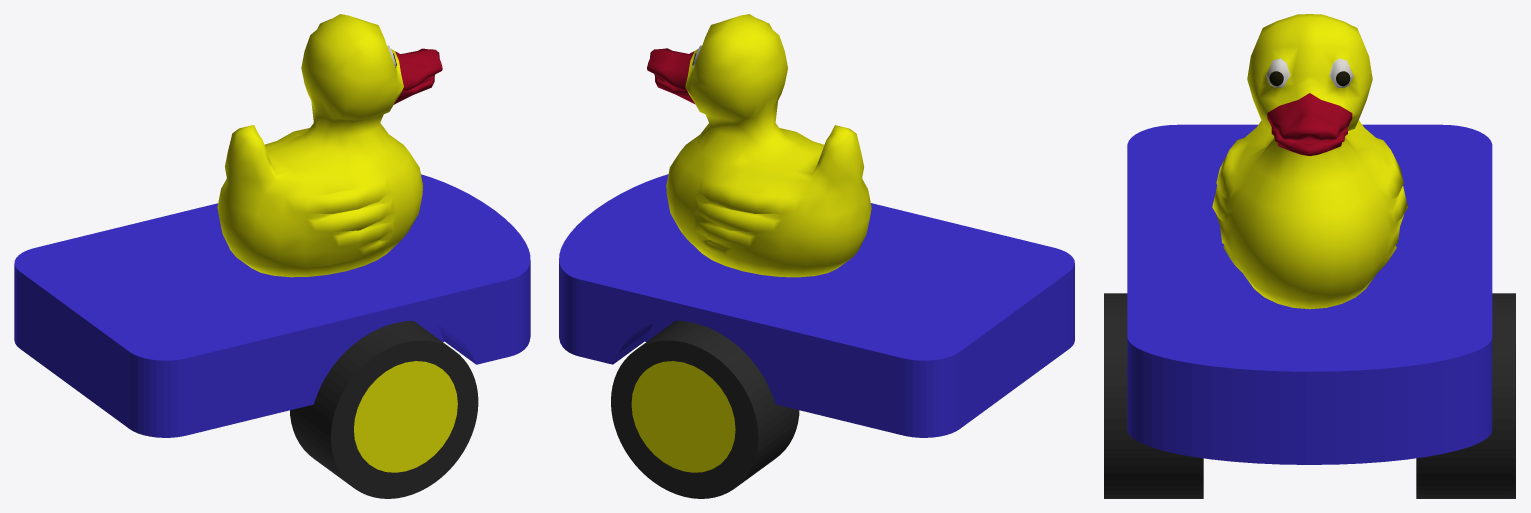
The model's file is duckiebot.dae.
3 views of the same model, side by side, from view 1: azimuth 30°, elevation 25°; view 2: azimuth 150°, elevation 25°; view 3: azimuth 270°, elevation 25° (orthographic). The views are drawn at different scales.
Visible parts, largest first — view 1: duckie_-_Base-1, Duck, duckie_-_RuedaD-1, Circle; view 2: duckie_-_Base-1, Duck, duckie_-_RuedaI-1, Circle; view 3: duckie_-_Base-1, Duck, duckie_-_RuedaI-1, duckie_-_RuedaD-1.
Boxes of the visible parts, left/top/right/bottom form: duckie_-_Base-1: left=14, top=174, right=530, bottom=437; Duck: left=217, top=14, right=442, bottom=277; duckie_-_RuedaD-1: left=290, top=321, right=478, bottom=498; Circle: left=354, top=361, right=457, bottom=472; duckie_-_Base-1: left=559, top=174, right=1074, bottom=437; Duck: left=647, top=14, right=871, bottom=277; duckie_-_RuedaI-1: left=611, top=320, right=799, bottom=498; Circle: left=631, top=361, right=735, bottom=472; duckie_-_Base-1: left=1127, top=124, right=1492, bottom=464; Duck: left=1212, top=14, right=1407, bottom=309; duckie_-_RuedaI-1: left=1416, top=293, right=1515, bottom=498; duckie_-_RuedaD-1: left=1104, top=293, right=1203, bottom=498.
Bounding box in the file's own units: 0.1761 × 0.1245 × 0.1635.
